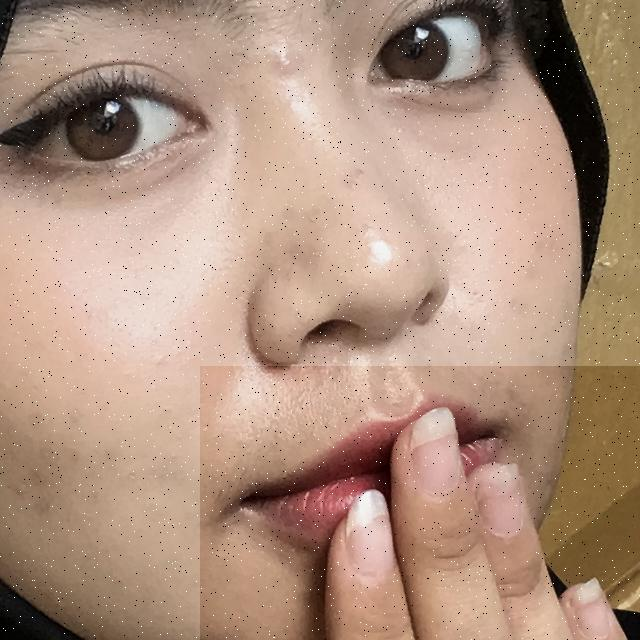ganteng: (200, 366, 640, 640)
